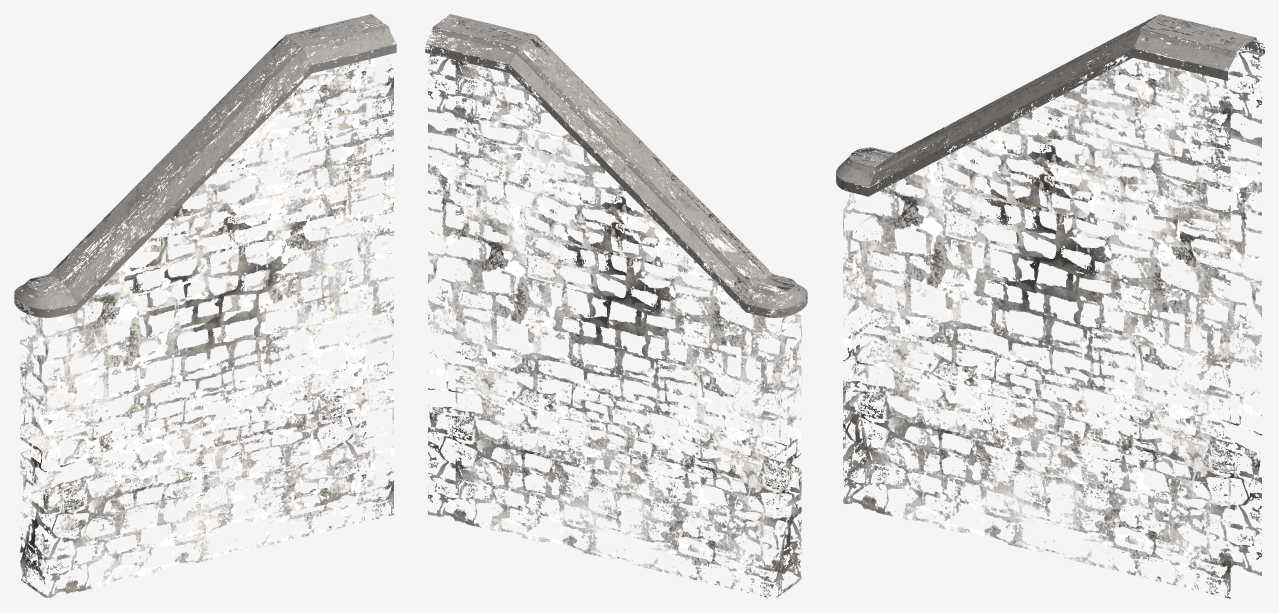
The model's file is SM_porch_parapet_01.fbx.
The picture shows the model from 3 angles, left to right: view 1: azimuth 30°, elevation 25°; view 2: azimuth 150°, elevation 25°; view 3: azimuth 330°, elevation 25°; orthographic projection. The views are drawn at different scales.
Parts seen in each view (by area): view 1: SM_porch_parapet_01_LOD0; view 2: SM_porch_parapet_01_LOD0; view 3: SM_porch_parapet_01_LOD0.
Part boxes in pixels (x1,y1,x2,y2): SM_porch_parapet_01_LOD0: (14,14,396,597); SM_porch_parapet_01_LOD0: (425,14,807,597); SM_porch_parapet_01_LOD0: (836,14,1264,598).
Size of the model in its own units: 187 by 29.6 by 240.
2 materials, 2 textured.
